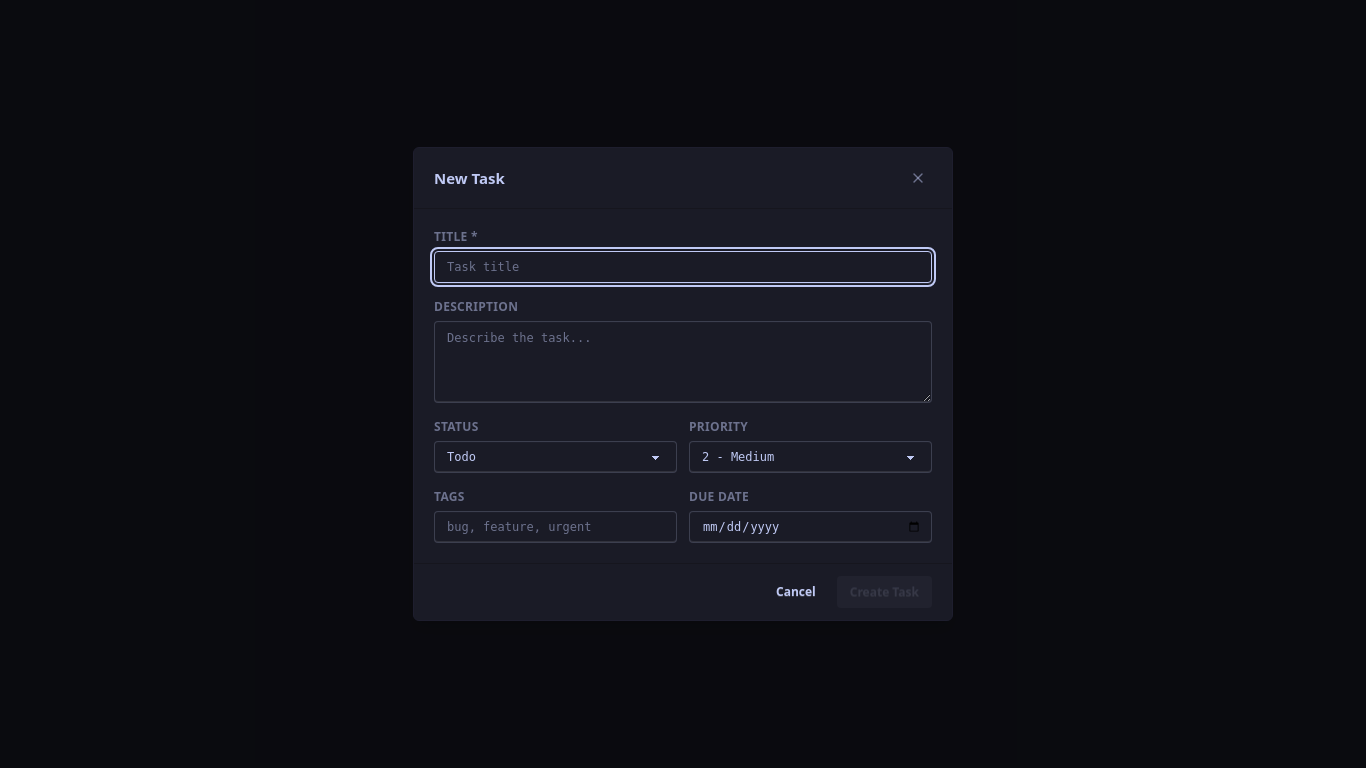
Test case: TaskDialog › clears title error when user types a title
Submit the form with placeholder "Task title", box [414,209,952,563]
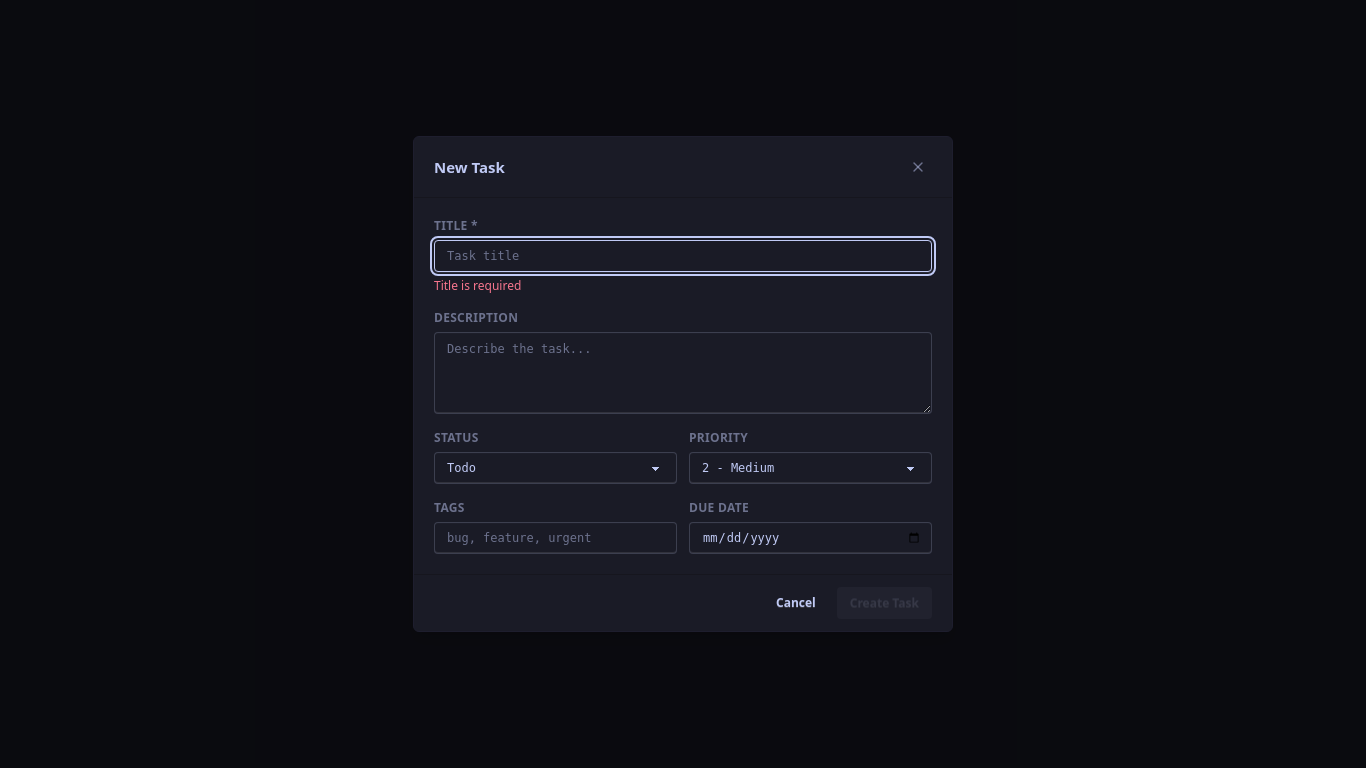
Check: the text "Title is required" is shown, box [434,277,521,294]
In the field with placeholder "Task title": (683, 256) [434,240,932,272], type "Now valid"
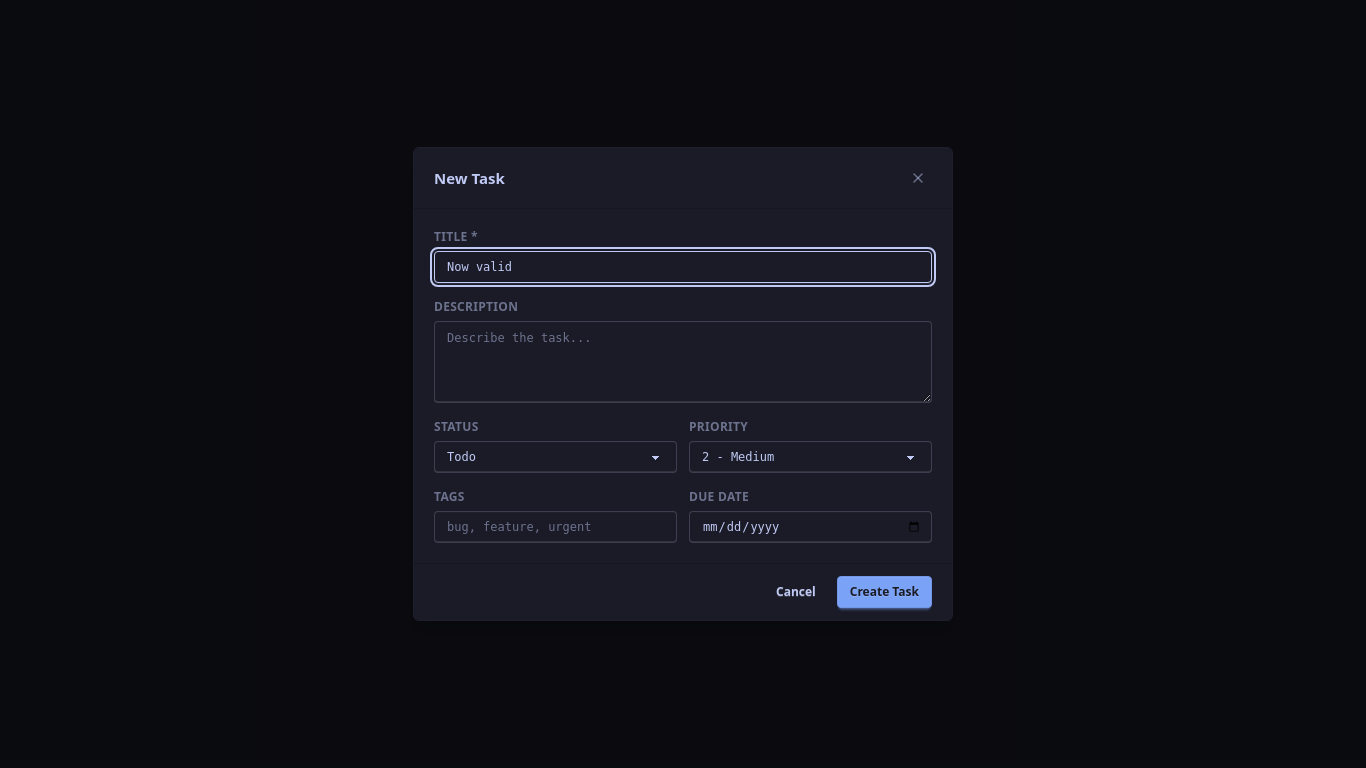
Check: the text "Title is required" is gone
